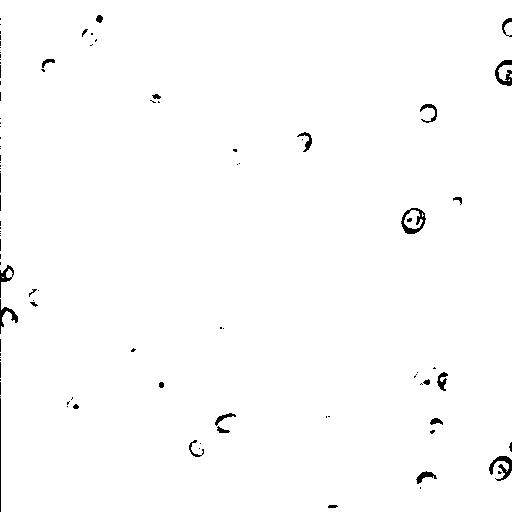micro-algae: (91, 401, 134, 445), (391, 237, 433, 280), (379, 16, 419, 56), (313, 57, 348, 93), (1, 294, 27, 339), (441, 488, 484, 511), (399, 206, 427, 236), (86, 5, 113, 33), (486, 453, 512, 481), (147, 370, 172, 397), (413, 471, 441, 495), (216, 145, 244, 169), (212, 413, 241, 435), (121, 339, 147, 363), (414, 367, 438, 393), (493, 58, 512, 87), (291, 131, 313, 155), (417, 101, 439, 123), (25, 287, 48, 308), (132, 270, 155, 291), (67, 397, 88, 419), (41, 57, 63, 77), (433, 372, 455, 392), (1, 306, 18, 331), (81, 27, 99, 47), (189, 439, 207, 458), (426, 417, 444, 435), (1, 263, 15, 283), (319, 502, 350, 511), (501, 15, 511, 39), (449, 195, 464, 210)
